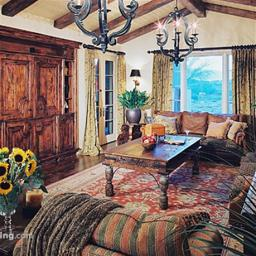Matera: (120, 90, 151, 124)
Puerta: (90, 51, 121, 142)
Ventana: (159, 52, 253, 112)
